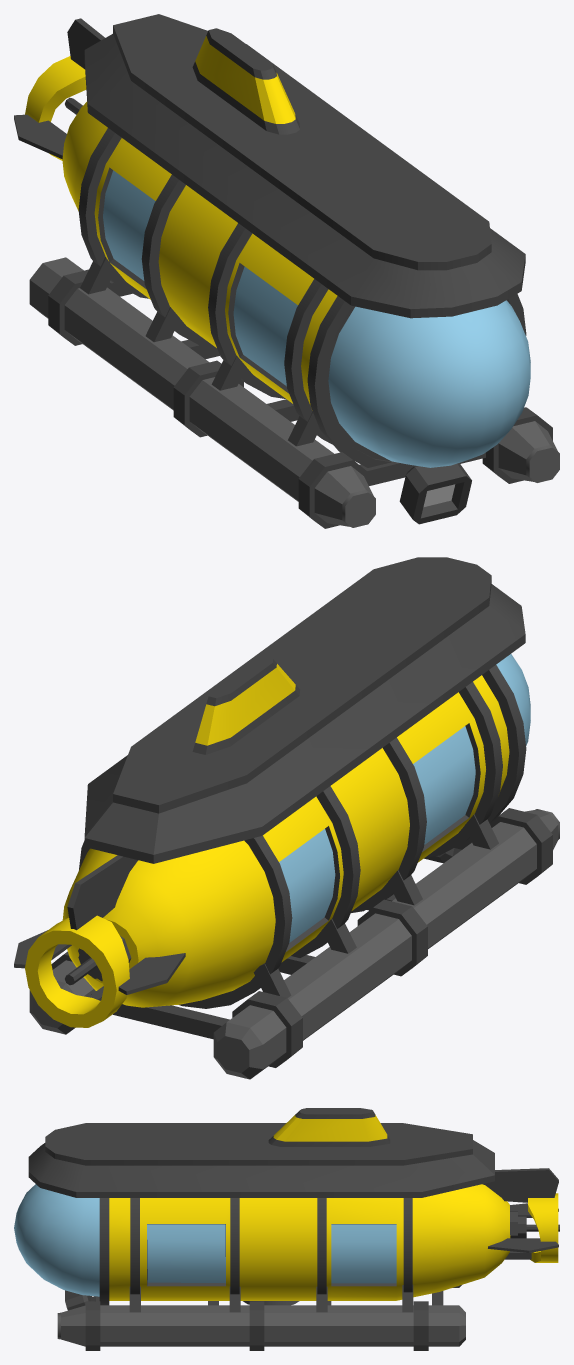
Rendered from Large Submarine.fbx.
3 views of the same model, one above another, from view 1: azimuth 30°, elevation 25°; view 2: azimuth 150°, elevation 25°; view 3: azimuth 270°, elevation 25° (orthographic). The views are drawn at different scales.
Parts seen in each view (by area): view 1: Large Submarine, Large Windows; view 2: Large Submarine, Large Windows; view 3: Large Submarine, Large Windows.
Boxes of the visible parts, x1,y1,x2,y2 form: Large Submarine: (14, 14, 559, 528); Large Windows: (103, 170, 530, 467); Large Submarine: (14, 557, 559, 1079); Large Windows: (279, 654, 530, 942); Large Submarine: (28, 1108, 559, 1350); Large Windows: (14, 1184, 396, 1296).
Size of the model in its own units: 493 by 631 by 1462.
